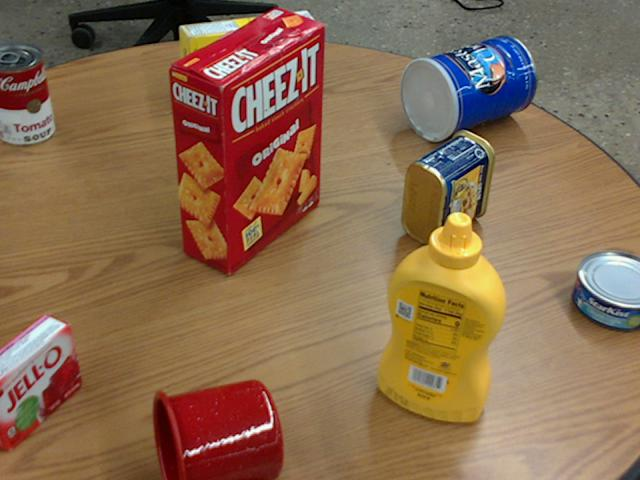cracker_box: (168, 8, 325, 273)
gelatin_box: (0, 313, 78, 449)
master_chef_can: (399, 35, 535, 140)
mug: (148, 379, 281, 479)
mustard_bottle: (376, 211, 505, 421)
potted_meat_can: (402, 129, 494, 245)
sugar_box: (179, 9, 317, 101)
tomato_soup_can: (0, 41, 54, 144)
tuna_fish_can: (571, 250, 639, 330)
